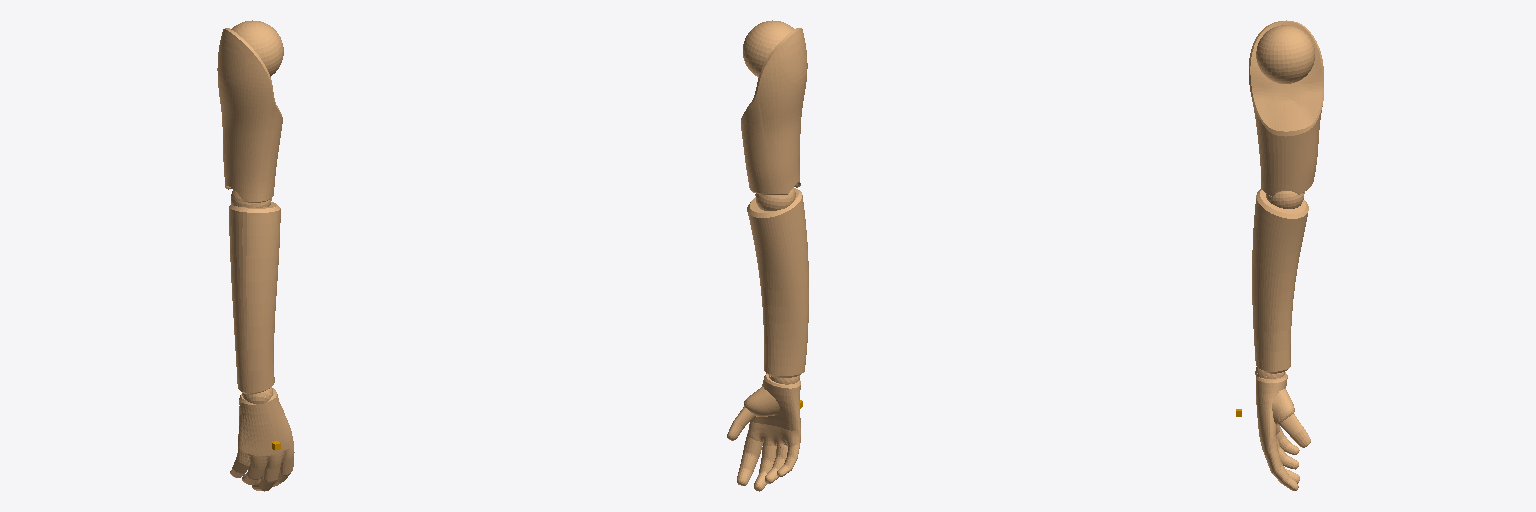
URDF robot description (right_arm):
<?xml version="1.0" ?>
<robot name="right_arm">

  <material name="skin">
    <color rgba="0.9 0.72 0.53 1.000"/>
  </material>

  <link name="base_link">
    <inertial>
      <origin xyz="0.0 0.0 0.0" rpy="0 0 0"/>
      <mass value="0.0"/>
      <inertia ixx="0.0" iyy="0.0" izz="0.0" ixy="0.0" iyz="0.0" ixz="0.0"/>
    </inertial>
  </link>

  <joint name="base_fixed" type="fixed">
    <origin rpy="0 0 0.0" xyz="0 0 0.0"/>
    <parent link="base_link"/>
    <child link="base_link_0"/>
  </joint>

  <link name="base_link_0">
    <inertial>
      <origin xyz="0.0 0.0 0.0" rpy="0 0 0"/>
      <mass value="0.0"/>
      <inertia ixx="0.0" iyy="0.0" izz="0.0" ixy="0.0" iyz="0.0" ixz="0.0"/>
    </inertial>
  </link>

  <link name="base_link_1">
    <inertial>
      <origin xyz="0.0 0.0 0.0" rpy="0 0 0"/>
      <mass value="0.0"/>
      <inertia ixx="0.0" iyy="0.0" izz="0.0" ixy="0.0" iyz="0.0" ixz="0.0"/>
    </inertial>
  </link>

  <link name="base_link_2">
    <inertial>
      <origin xyz="0.0 0.0 0.0" rpy="0 0 0"/>
      <mass value="0.0"/>
      <inertia ixx="0.0" iyy="0.0" izz="0.0" ixy="0.0" iyz="0.0" ixz="0.0"/>
    </inertial>
  </link>

    <link name="hand_x">
    <inertial>
      <origin xyz="0.0 0.0 0.0" rpy="0 0 0"/>
      <mass value="0.0"/>
      <inertia ixx="0.0" iyy="0.0" izz="0.0" ixy="0.0" iyz="0.0" ixz="0.0"/>
    </inertial>
  </link>

  <link name="upper_arm">
    <inertial>
      <origin xyz="0.00277 -0.00352 -0.098" rpy="0 0 0"/>
      <mass value="1.0"/>
      <inertia ixx="0.00691" iyy="0.00674" izz="0.00097" ixy="-6.65745e-06" iyz="-7.0718e-05" ixz="0.00015"/>
    </inertial>
    <visual>
      <origin xyz="0 0 0" rpy="0 0 0"/>
      <geometry>
        <mesh filename="meshes/right_upper_arm.stl" scale="1.0 1.0 1.0"/>
      </geometry>
      <material name="skin"/>
    </visual>
    <collision>
      <origin xyz="0 0 0" rpy="0 0 0"/>
      <geometry>
        <mesh filename="meshes/right_upper_arm.stl" scale="1.0 1.0 1.0"/>
      </geometry>
    </collision>
  </link>

  <link name="lower_arm">
    <inertial>
      <origin xyz="0.01457 9.28389e-05 -0.19143" rpy="0 0 0"/>
      <mass value="1.0"/>
      <inertia ixx="0.01712" iyy="0.01699" izz="0.00072" ixy="-5.34657e-05" iyz="-0.00071" ixz="0.00031"/>
    </inertial>
    <visual>
      <origin xyz="0.0 0.0 0.0" rpy="0 0 0"/>
      <geometry>
        <mesh filename="meshes/right_lower_arm_without_hand.stl" scale="1.0 1.0 1.0"/>
      </geometry>
      <material name="skin"/>
    </visual>
    <collision>
      <origin xyz="0.0 0.0 0.0" rpy="0 0 0"/>
      <geometry>
        <mesh filename="meshes/right_lower_arm_without_hand.stl" scale="1.0 1.0 1.0"/>
      </geometry>
    </collision>
  </link>

  <link name="hand">
    <inertial>
      <origin xyz="0.16051 -0.012319 0.075256" rpy="0 0 0"/>
      <mass value="1.0"/>
      <inertia ixx="0.01712" iyy="0.01699" izz="0.00072" ixy="-5.34657e-05" iyz="-0.00071" ixz="0.00031"/>
    </inertial>
    <visual>
      <origin xyz="0.0 0.0 0.0" rpy="0 0 0"/>
      <geometry>
        <mesh filename="meshes/right_hand.stl" scale="1.0 1.0 1.0"/>
      </geometry>
      <material name="skin"/>
    </visual>
    <collision>
      <origin xyz="0.0 0.0 0.0" rpy="0 0 0"/>
      <geometry>
        <mesh filename="meshes/right_hand.stl" scale="1.0 1.0 1.0"/>
      </geometry>
    </collision>
  </link>

  <joint name="base_x" type="continuous">
    <origin xyz="0.0 0.0 0.0" rpy="0 0 0"/>
    <parent link="base_link_0"/>
    <child link="base_link_1"/>
    <axis xyz="1.0 0.0 0.0"/>
    <!-- <limit effort="100" lower="-1.57" upper="1.57" velocity="5.0"/> -->
  </joint>

  <joint name="base_y" type="continuous">
    <origin xyz="0.0 0.0 0.0" rpy="0 0 0"/>
    <parent link="base_link_1"/>
    <child link="base_link_2"/>
    <axis xyz="0.0 1.0 0.0"/>
    <!-- <limit effort="100" lower="-1.57" upper="0" velocity="5.0"/> -->
  </joint>

  <joint name="base_z" type="continuous">
    <origin xyz="0.0 0.0 0.0" rpy="0 0 0"/>
    <parent link="base_link_2"/>
    <child link="upper_arm"/>
    <axis xyz="0.0 0.0 1.0"/>
    <!-- <limit effort="100" lower="0.0" upper="1.57" velocity="5.0"/> -->
  </joint>

  <joint name="upper_to_lower" type="continuous">
    <origin xyz="0.0 0.0 -0.24102" rpy="0 0 -1.57"/>
    <parent link="upper_arm"/>
    <child link="lower_arm"/>
    <axis xyz="0.0 1.0 0.0"/>
    <!-- <limit effort="100" lower="-2.0944" upper="0.0" velocity="5.0"/> -->
  </joint>


  <joint name="lower_to_hand_x" type="continuous">
    <origin xyz="0.0 0.0 -0.296366" rpy="0 0 0"/>
    <parent link="lower_arm"/>
    <child link="hand_x"/>
    <axis xyz="1.0 0.0 0.0"/>
    <!-- <limit effort="100" lower="-2.0944" upper="0.0" velocity="5.0"/> -->
  </joint>


  <joint name="lower_to_hand" type="continuous">
    <origin xyz="0.0 0.0 0.0" rpy="0 0 0"/>
    <parent link="hand_x"/>
    <child link="hand"/>
    <axis xyz="0.0 1.0 0.0"/>
    <!-- <limit effort="100" lower="-2.0944" upper="0.0" velocity="5.0"/> -->
  </joint>



  <joint name="grasp_fixed_joint" type="fixed">
    <parent link="hand"/>
    <child link="ee_link"/>
    <origin rpy="0.0 0.0 0.0" xyz="0.07 0.0 -0.07"/>
  </joint>

  <link name="ee_link">
    <inertial>
      <origin xyz="0.0 0.0 0.0" rpy="0 0 0"/>
      <mass value="0.0"/>
      <inertia ixx="0.0" iyy="0.0" izz="0.0" ixy="0.0" iyz="0.0" ixz="0.0"/>
    </inertial>
    <visual>
      <geometry>
        <box size="0.01 0.01 0.01"/>
      </geometry>
      <origin rpy="0 0 0" xyz="0.0 0 0"/>
    </visual>
  </link>

</robot>

--- Facts derived from the render (not from the file) ---
Views: 3 orthographic renders of the robot side by side, from view 1: azimuth 30°, elevation 25°; view 2: azimuth 150°, elevation 25°; view 3: azimuth 270°, elevation 25°.
Robot: right_arm — 9 links, 8 joints (6 continuous, 2 fixed); root link base_link; default pose: every joint at zero.
Links seen in each view (by area): view 1: upper_arm, lower_arm, hand; view 2: upper_arm, lower_arm, hand; view 3: upper_arm, lower_arm, hand.
Link boxes in pixels (bbox=[...]): upper_arm: bbox=[217, 20, 283, 207]; lower_arm: bbox=[229, 202, 280, 396]; hand: bbox=[230, 388, 294, 491]; upper_arm: bbox=[741, 20, 807, 210]; lower_arm: bbox=[747, 188, 808, 379]; hand: bbox=[727, 373, 800, 491]; upper_arm: bbox=[1249, 20, 1323, 208]; lower_arm: bbox=[1252, 189, 1308, 376]; hand: bbox=[1255, 371, 1310, 490].
Size in the robot's own frame: 0.1109 by 0.1358 by 0.7635 metres.
3 mesh visuals loaded from 3 distinct referenced files (3 binary STL).